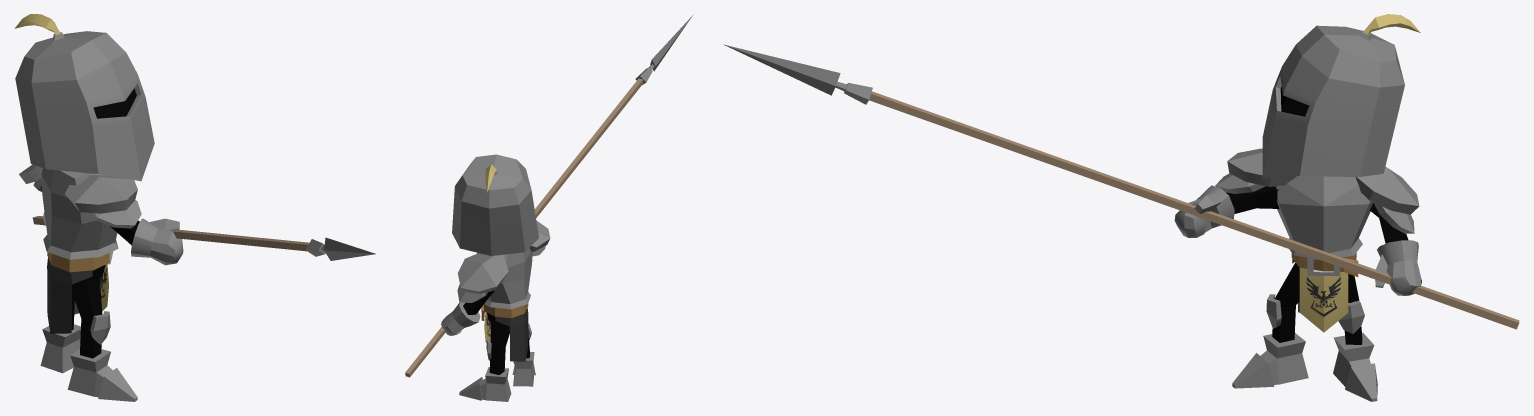
The picture shows the model from 3 angles, left to right: view 1: azimuth 30°, elevation 25°; view 2: azimuth 150°, elevation 25°; view 3: azimuth 270°, elevation 25°; orthographic projection. The views are drawn at different scales.
Visible parts, largest first — view 1: Soldier_54; view 2: Soldier_54; view 3: Soldier_54.
Part boxes in pixels (box(x1,y1,x2,y2)): Soldier_54: box(14, 14, 375, 401); Soldier_54: box(405, 14, 693, 401); Soldier_54: box(723, 14, 1519, 401).
Bounding box in the file's own units: 0.5784 × 1.76 × 3.52.
9 materials, 1 textured.
